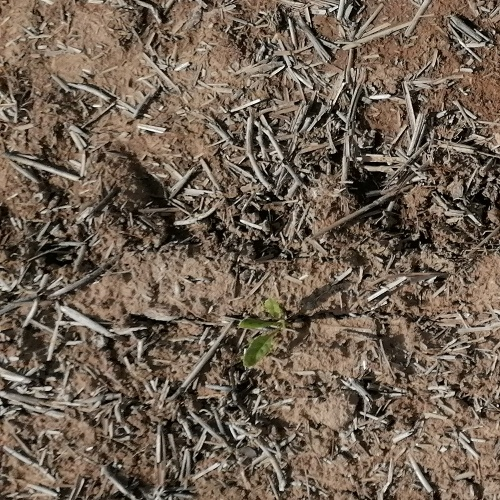beet: (237, 298, 289, 374)
